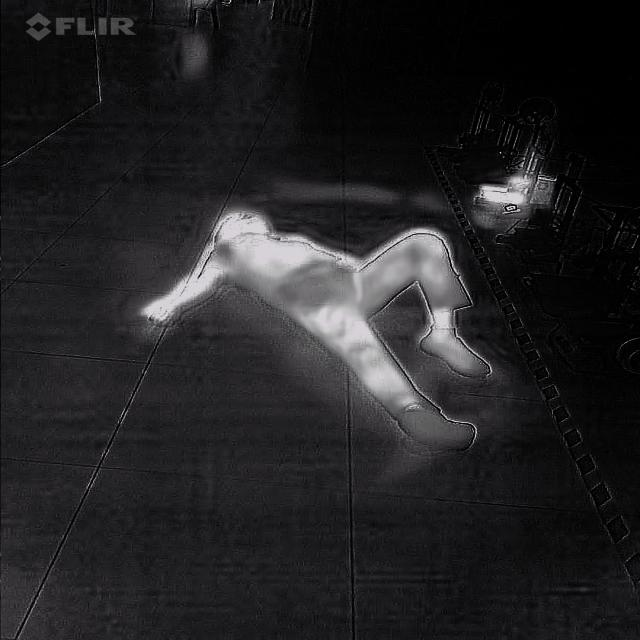Victim: (139, 209, 504, 453)
